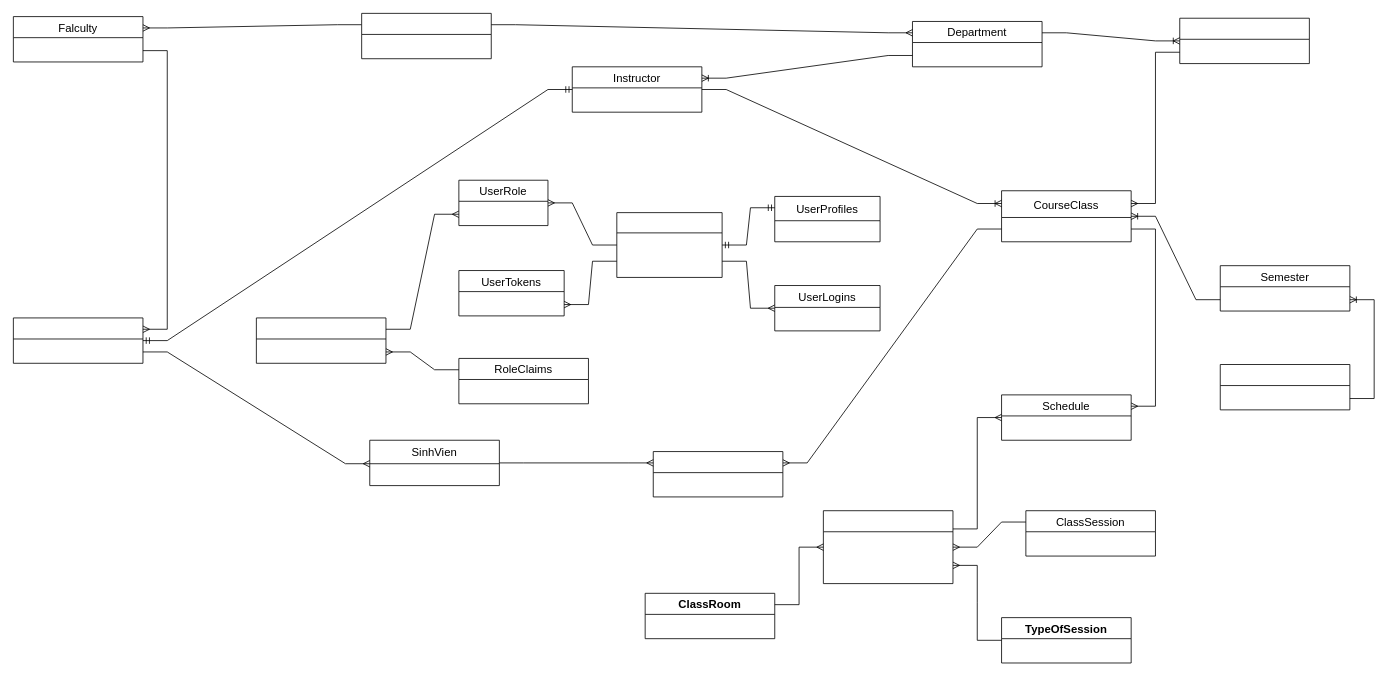
Some shapes in this 1388 by 676 pixel diagram are drawn without their labels. The shapes that lost their labels are listed below. From the top down, each one's centre as x and y in pixels, then its label:
At (426,36): "Falculty_Department".
At (1244,40): "Course".
At (669,244): "Users".
At (78,340): "ManagementClass".
At (321,340): "Roles".
At (1284,387): "SchoolYear".
At (717,474): "Diem_SV".
At (888,547): "ClassPeriod".
